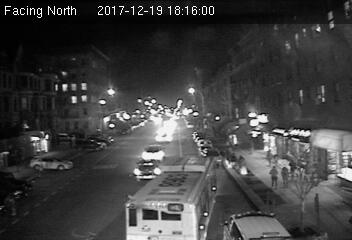bus: (123, 152, 224, 240)
car: (135, 159, 162, 179), (141, 144, 165, 160)
pedestrian: (267, 164, 278, 188), (280, 166, 292, 187)
police: (221, 210, 292, 240)
